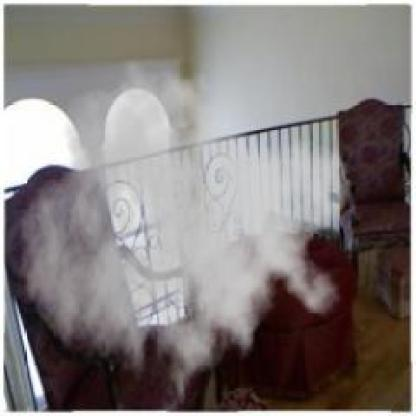Smoke: (18, 50, 353, 413)
